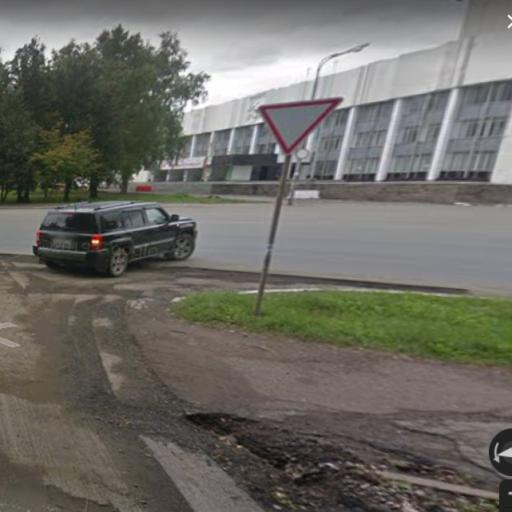traffic_sign: (252, 89, 350, 163)
